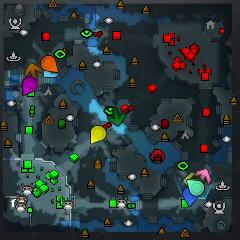p1: (183, 187, 198, 207)
p2: (186, 179, 204, 197)
p3: (22, 77, 38, 95)
p4: (91, 125, 106, 145)
p5: (41, 55, 58, 73)
x1: (196, 169, 210, 184)
x2: (183, 172, 200, 185)
x3: (43, 69, 58, 79)
x4: (107, 107, 125, 126)
x5: (25, 63, 41, 80)
